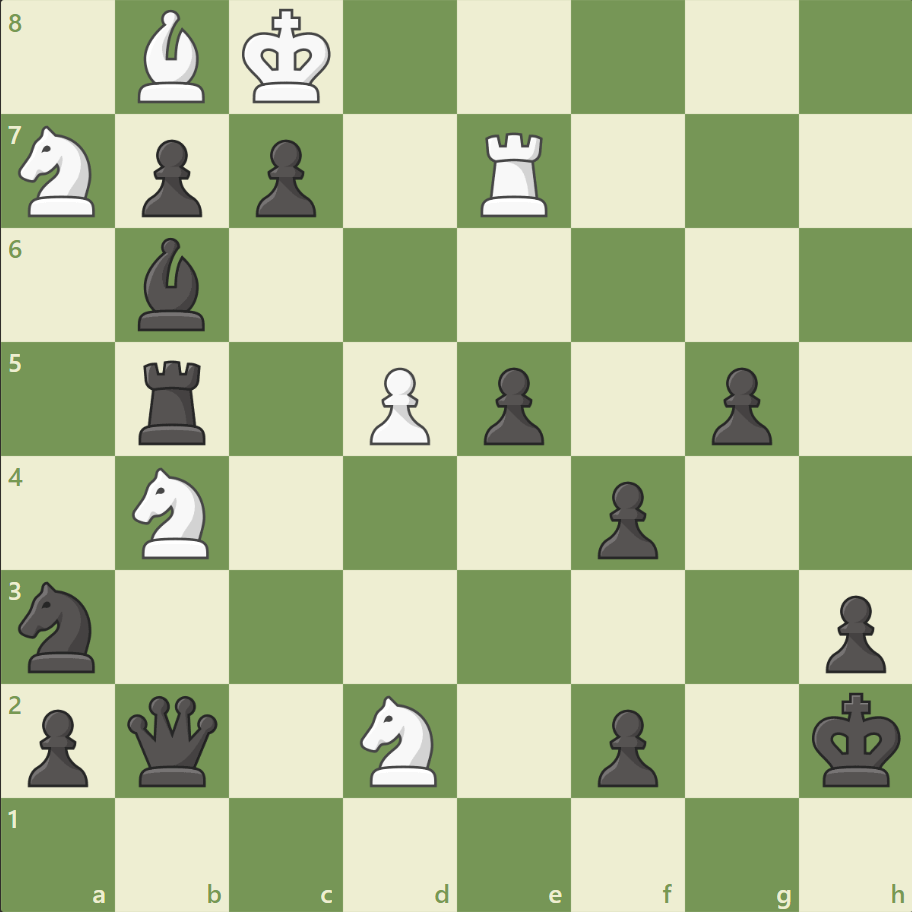B: (131, 6, 215, 109)
K: (238, 4, 338, 112)
N: (124, 461, 222, 564), (351, 688, 449, 791), (11, 121, 108, 223)
P: (361, 359, 435, 450)
R: (473, 125, 556, 222)
b: (131, 233, 215, 336)
k: (806, 685, 906, 793)
n: (11, 575, 108, 677)
p: (133, 132, 208, 223), (247, 132, 322, 223), (474, 359, 549, 450), (701, 359, 776, 450), (20, 700, 95, 791), (588, 473, 662, 564), (815, 586, 889, 677), (588, 700, 662, 791)
q: (124, 690, 223, 789)
r: (133, 352, 215, 449)
